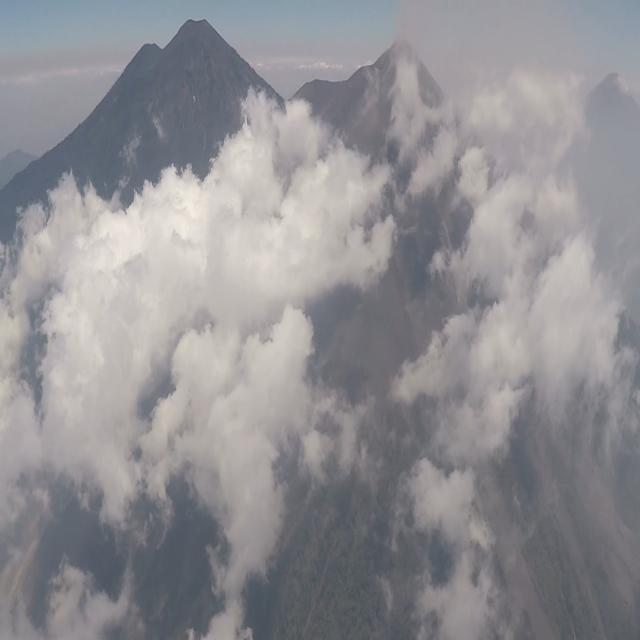Summit: (344, 32, 450, 108)
